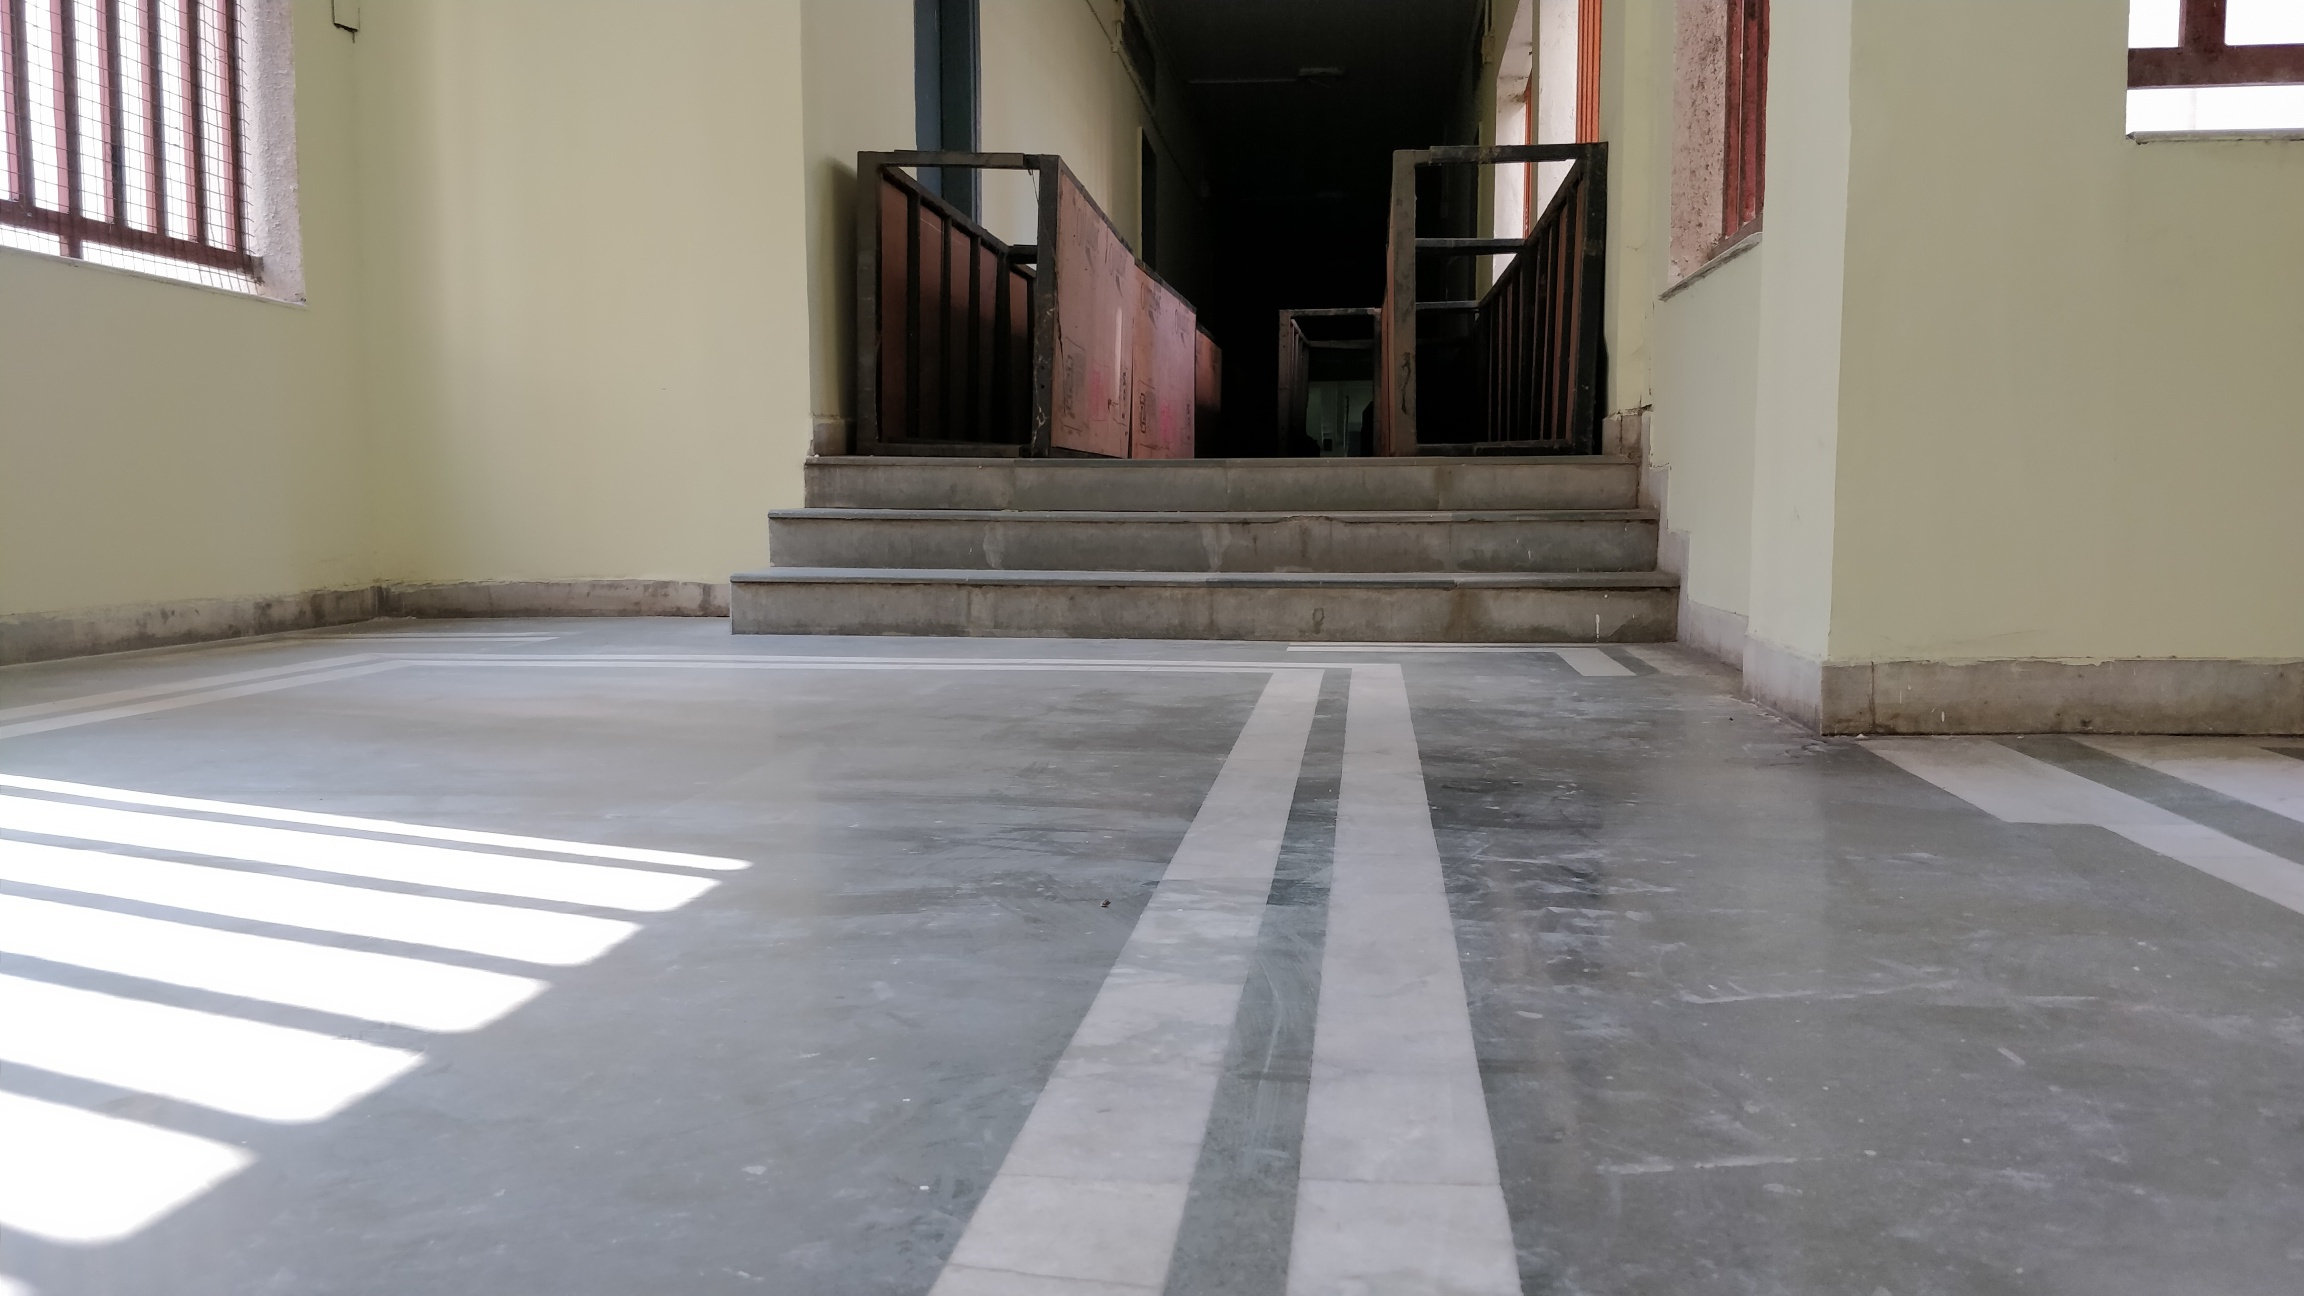stairs_up: (748, 446, 1681, 635)
